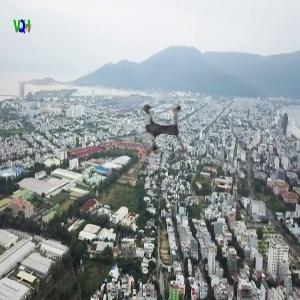drone: (122, 92, 199, 169)
